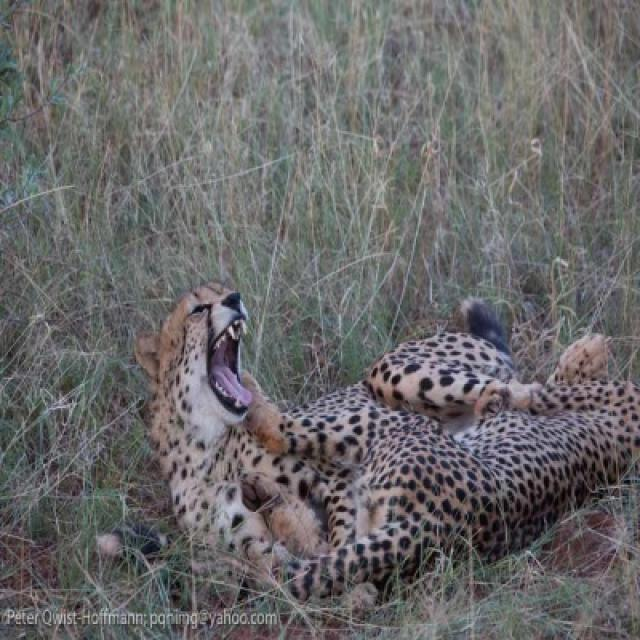Cheetah: (136, 285, 638, 602)
